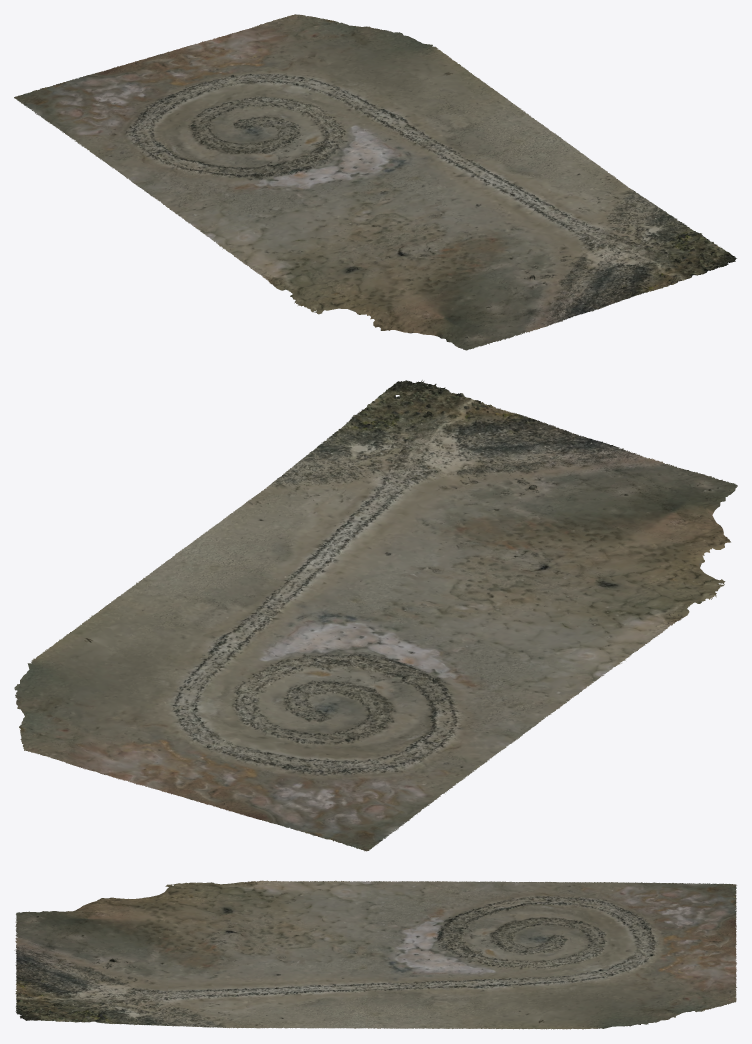
File: preview.glb
3 views of the same model, one above another, from view 1: azimuth 30°, elevation 25°; view 2: azimuth 150°, elevation 25°; view 3: azimuth 270°, elevation 25° (orthographic). The views are drawn at different scales.
Visible parts, largest first — view 1: meshNode_Material_u1_v1_0; view 2: meshNode_Material_u1_v1_0; view 3: meshNode_Material_u1_v1_0.
Boxes of the visible parts, x1=… form: meshNode_Material_u1_v1_0: x1=14, y1=14, x2=736, y2=350; meshNode_Material_u1_v1_0: x1=14, y1=380, x2=737, y2=851; meshNode_Material_u1_v1_0: x1=14, y1=880, x2=736, y2=1029.
Size of the model in its own units: 11623 by 944 by 21710.
1 material, 1 textured.
